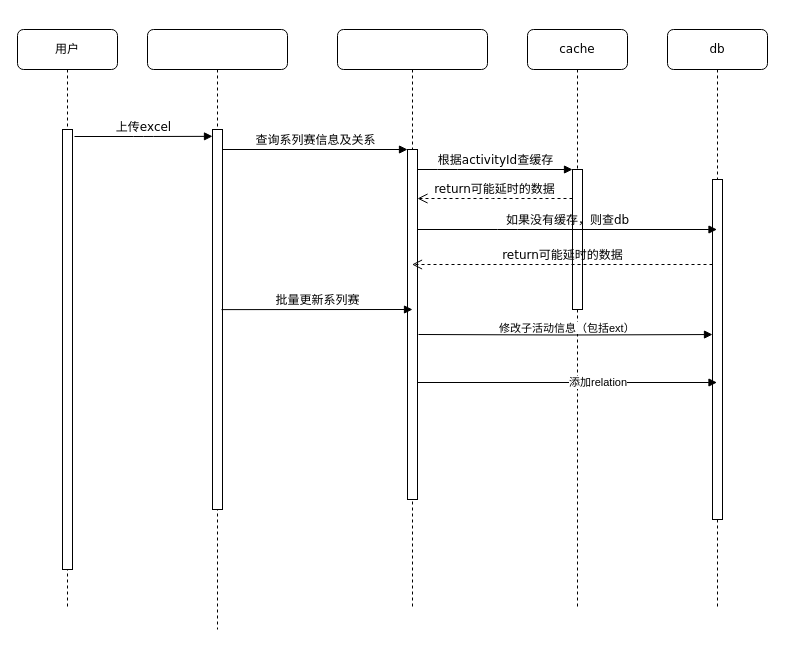
The diagram is 785 pixels wide and 647 high, and some of its shapes have lost their labels. The box of each missing label's shape, as (x1, y1, x2, y2) in pixels:
ActivityBackground OperatingService: (146, 28, 288, 630)
ActivityManageService: (336, 28, 488, 610)
